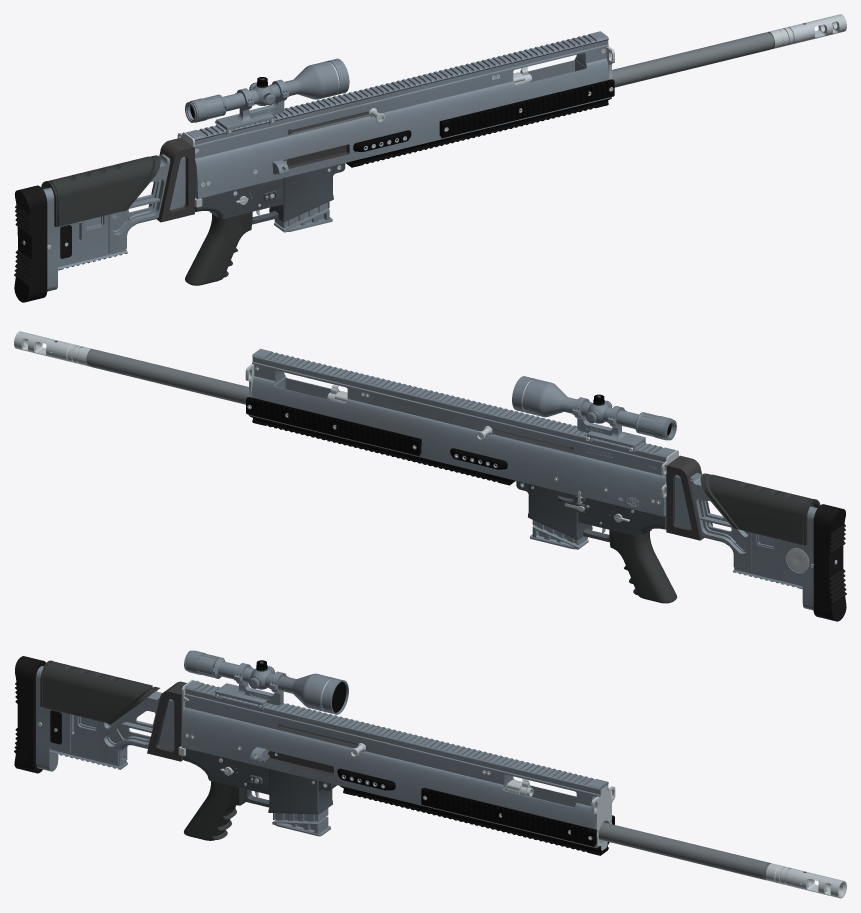
The model's file is FNSCAR3.glb.
The picture shows the model from 3 angles, top to bottom: view 1: azimuth 30°, elevation 25°; view 2: azimuth 150°, elevation 25°; view 3: azimuth 330°, elevation 25°; orthographic projection.
Parts seen in each view (by area): view 1: Cube002, ExtraFitings, Cube005, StockCover, Cube004, Cube005_1, Cylinder005_1, Cylinder010_1, HandGripper, Holder, Cylinder017_1, Cylinder010_2 (+3 smaller); view 2: Cube002, Cube005, ExtraFitings, StockCover, Cube004, Cube005_1, Cylinder005_1, Cylinder010_1, HandGripper, Holder, Cylinder002, Cylinder017_1 (+2 smaller); view 3: Cube002, Cube005, ExtraFitings, StockCover, Cube004, Cylinder010_1, Cylinder005_1, Cube005_1, HandGripper, Cylinder002, Holder, Cylinder010_2 (+3 smaller).
Boxes of the visible parts, bbox=[...] form: Cube002: bbox=[186, 31, 611, 199]; ExtraFitings: bbox=[346, 79, 614, 167]; Cube005: bbox=[43, 154, 185, 291]; StockCover: bbox=[41, 155, 160, 227]; Cube004: bbox=[195, 163, 345, 224]; Cube005_1: bbox=[14, 185, 47, 302]; Cylinder005_1: bbox=[185, 58, 349, 122]; Cylinder010_1: bbox=[612, 23, 805, 87]; HandGripper: bbox=[185, 212, 252, 285]; Holder: bbox=[148, 137, 194, 222]; Cylinder017_1: bbox=[216, 79, 289, 134]; Cylinder010_2: bbox=[769, 14, 846, 48]; Cube002: bbox=[248, 348, 675, 516]; Cube005: bbox=[675, 473, 817, 610]; ExtraFitings: bbox=[246, 397, 515, 485]; StockCover: bbox=[700, 473, 820, 545]; Cube004: bbox=[516, 481, 666, 542]; Cube005_1: bbox=[813, 504, 846, 621]; Cylinder005_1: bbox=[512, 376, 676, 440]; Cylinder010_1: bbox=[54, 340, 248, 404]; HandGripper: bbox=[609, 530, 676, 603]; Holder: bbox=[666, 455, 712, 540]; Cylinder002: bbox=[245, 364, 837, 568]; Cylinder017_1: bbox=[572, 397, 645, 452]; Cube002: bbox=[181, 680, 611, 848]; Cube005: bbox=[36, 666, 174, 771]; ExtraFitings: bbox=[337, 768, 614, 855]; StockCover: bbox=[40, 660, 159, 724]; Cube004: bbox=[182, 748, 336, 814]; Cylinder010_1: bbox=[598, 822, 806, 880]; Cylinder005_1: bbox=[184, 650, 348, 714]; Cube005_1: bbox=[14, 656, 45, 773]; HandGripper: bbox=[184, 781, 245, 840]; Cylinder002: bbox=[37, 680, 615, 850]; Holder: bbox=[147, 681, 186, 761]; Cylinder010_2: bbox=[765, 863, 846, 898].
Size of the model in its own units: 5.78 by 1.25 by 0.3411.
20 materials, 5 textured.
